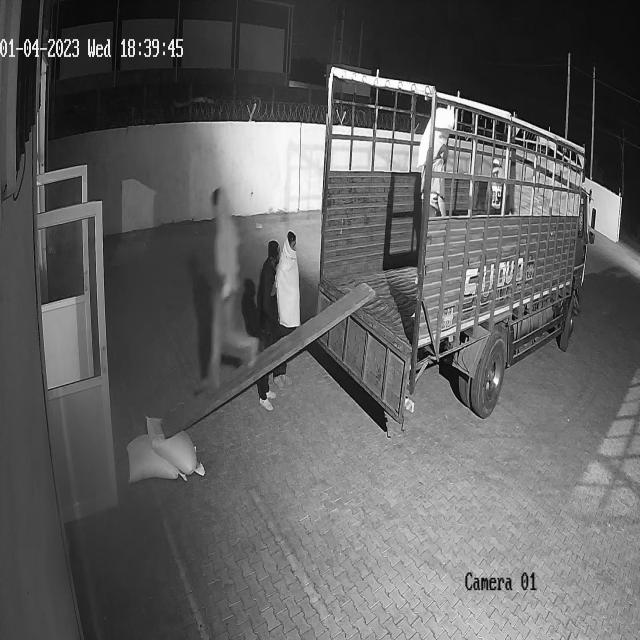sack: (146, 414, 200, 474), (126, 433, 184, 483), (415, 108, 456, 167)
